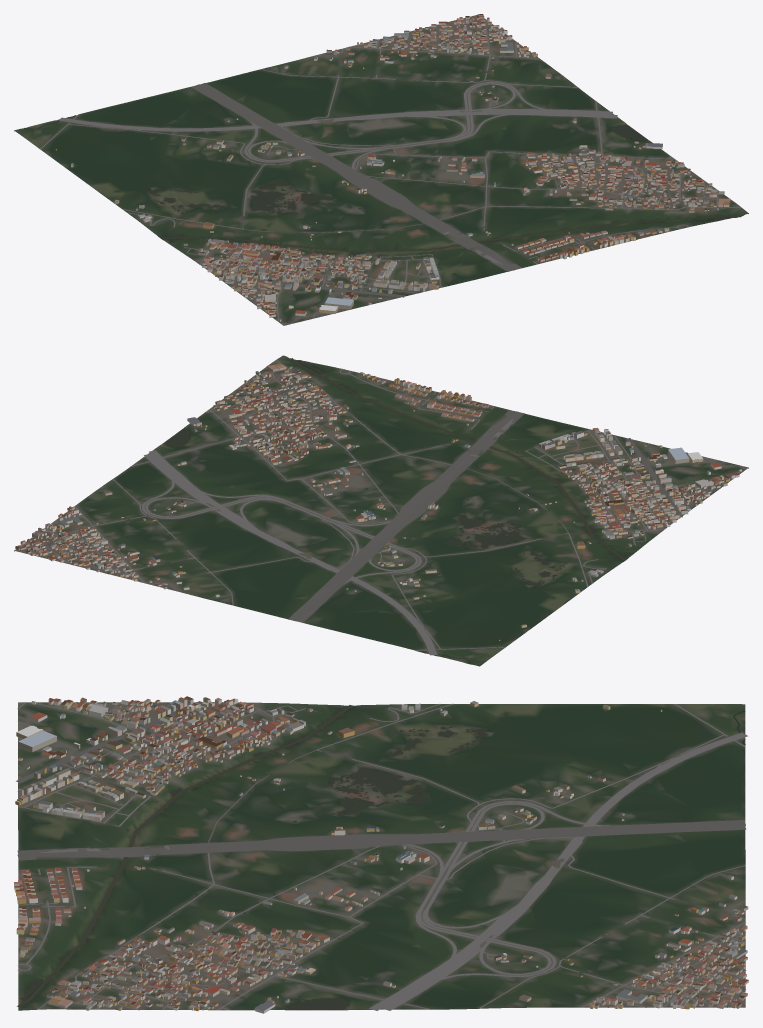
3 views of the same model, one above another, from view 1: azimuth 30°, elevation 25°; view 2: azimuth 150°, elevation 25°; view 3: azimuth 270°, elevation 25° (orthographic). The views are drawn at different scales.
Parts seen in each view (by area): view 1: ground, buildings, roads, water; view 2: ground, buildings, roads, water; view 3: ground, buildings, roads, water.
Part boxes in pixels (x1,y1,x2,y2): ground: (14, 15, 748, 325); buildings: (55, 14, 730, 321); roads: (40, 19, 741, 323); water: (24, 115, 741, 254); ground: (14, 355, 748, 666); buildings: (15, 363, 741, 640); roads: (21, 360, 745, 655); water: (163, 358, 626, 663); ground: (18, 702, 745, 1010); buildings: (14, 696, 748, 1013); roads: (16, 701, 747, 1010); water: (17, 705, 745, 1009).
Size of the model in its own units: 1422 by 25.08 by 1417.
